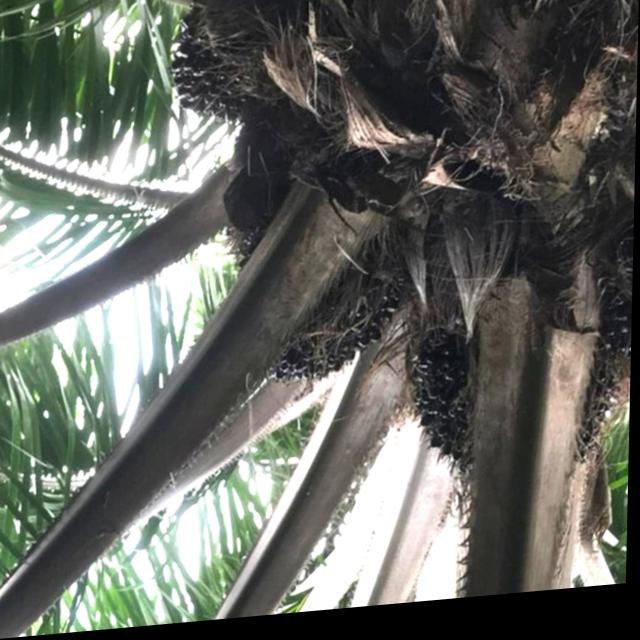almost: (402, 328, 625, 516), (234, 219, 413, 397), (167, 0, 317, 130)
